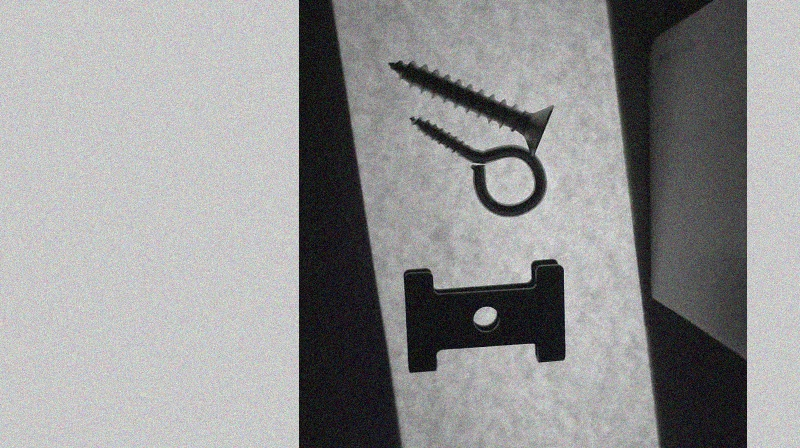O001: (409, 116, 547, 217)
O002: (401, 258, 571, 377)
S001: (386, 58, 556, 153)
